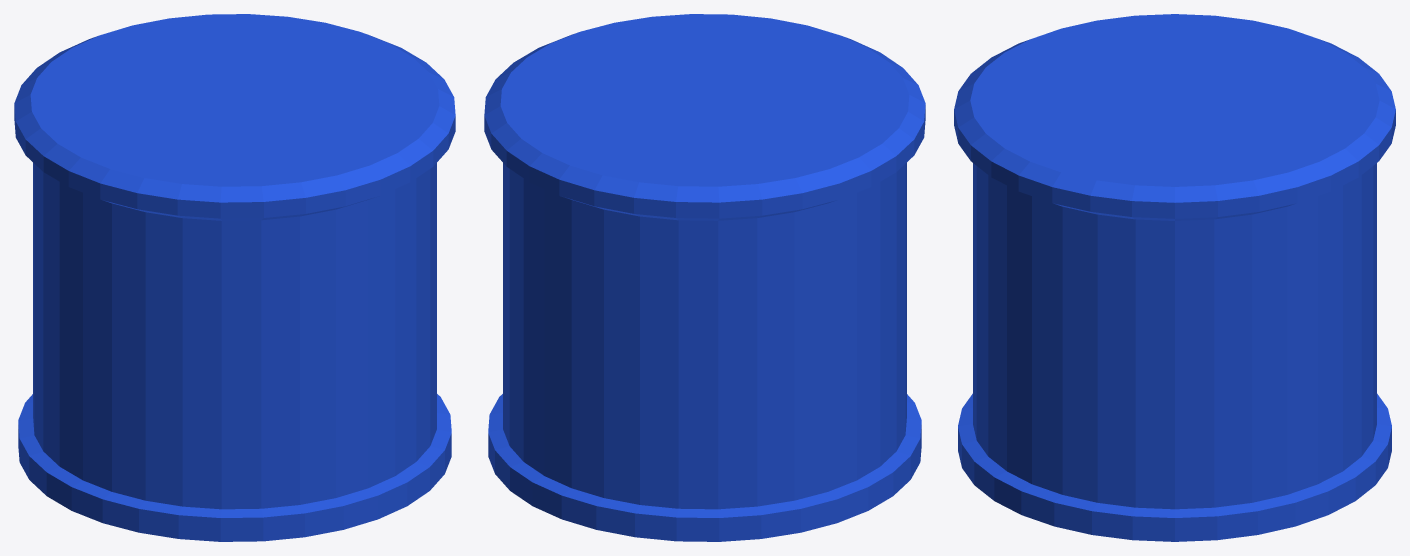
Rendered from baril.fbx.
3 views of the same model, side by side, from view 1: azimuth 30°, elevation 25°; view 2: azimuth 150°, elevation 25°; view 3: azimuth 270°, elevation 25° (orthographic).
Visible parts, largest first — view 1: baril; view 2: baril; view 3: baril.
Part boxes in pixels (bbox=[...]): baril: bbox=[14, 14, 455, 541]; baril: bbox=[484, 14, 925, 541]; baril: bbox=[954, 14, 1395, 541].
Bounding box in the file's own units: 268 × 268 × 234.
